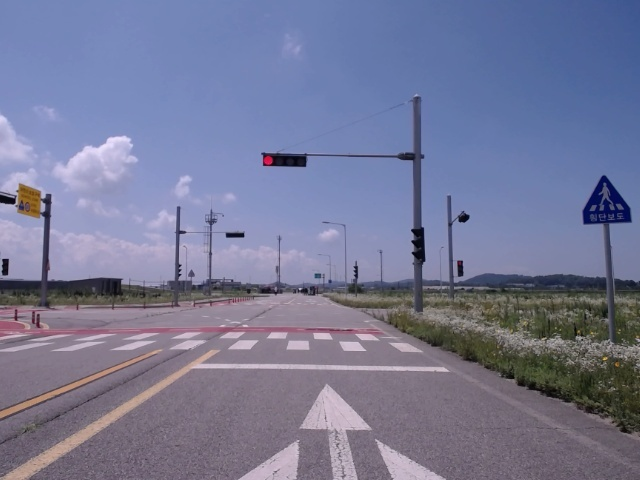red_4: (263, 155, 306, 168)
